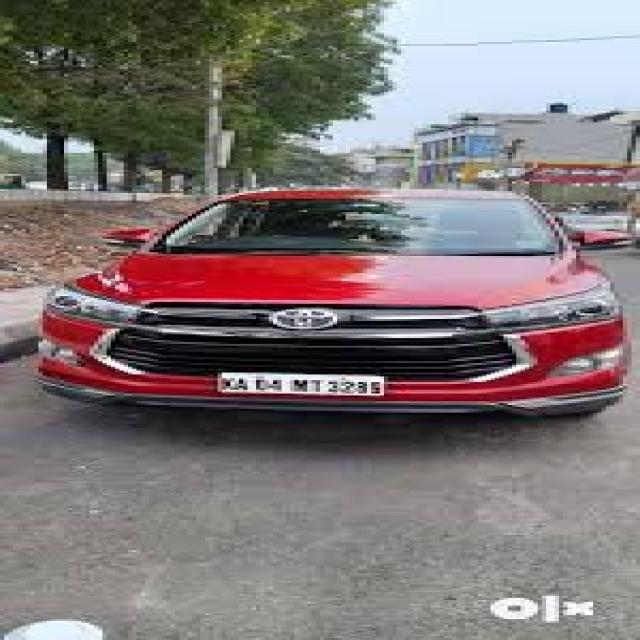light_vehicle: (32, 188, 634, 418)
